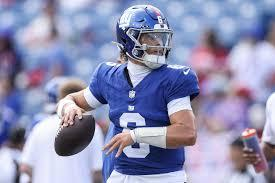americanFootball: (54, 112, 95, 159)
